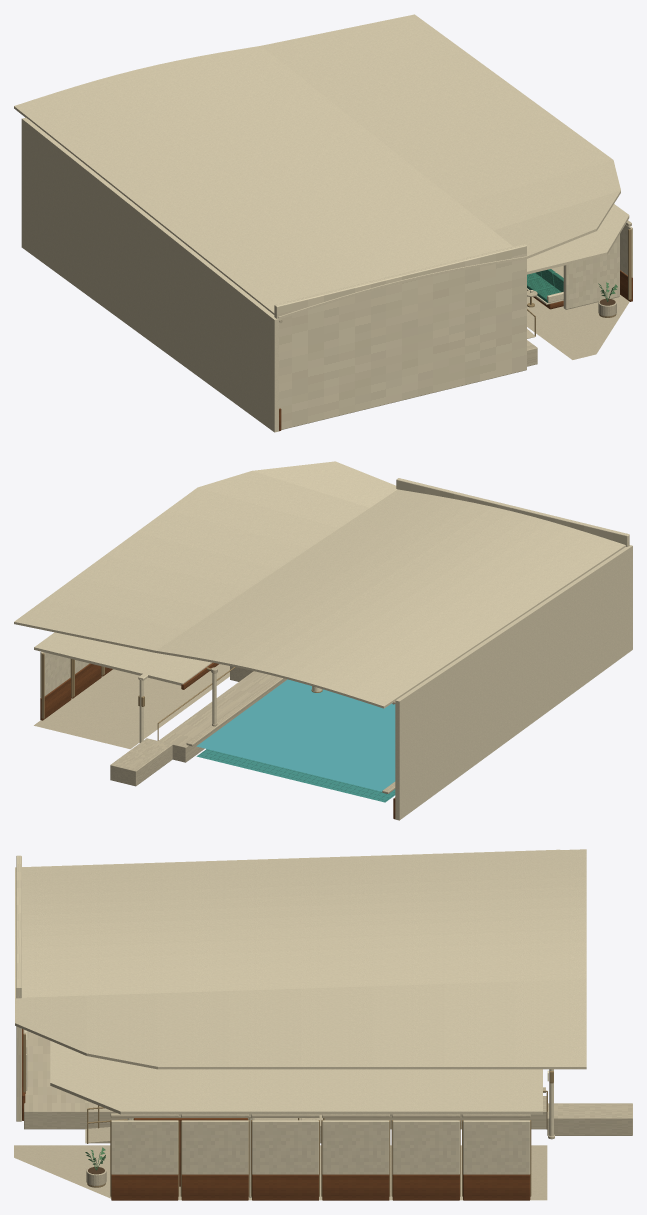
The model's file is FRESH_SELECTED_REEXPORT005.glb.
The picture shows the model from 3 angles, top to bottom: view 1: azimuth 30°, elevation 25°; view 2: azimuth 150°, elevation 25°; view 3: azimuth 270°, elevation 25°; orthographic projection. The views are drawn at different scales.
Visible parts, largest first — view 1: G6_TIDAL__north_room_return, G6_TIDAL__vault_infill_0, G6_TIDAL__vault_infill_2, G6_TIDAL__vault_infill_4, G6_TIDAL__vault_infill_3, G6_TIDAL__vault_infill_1, G6_TIDAL__vault_infill_5, G6_TIDAL__vault_infill_6, G6_TIDAL__west_room_return_0, G6_TIDAL__west_room_return_1, G6_TIDAL__west_room_return_3, G6_TIDAL__west_room_return_2 (+12 smaller); view 2: G6_TIDAL__water_face, G6_TIDAL__west_room_return_0, G6_TIDAL__dry_floor_finish, G6_TIDAL__vault_infill_0, G6_TIDAL__west_room_return_1, G6_TIDAL__west_room_return_2, G6_TIDAL__vault_infill_1, G6_TIDAL__vault_infill_2, G6_TIDAL__vault_infill_5, G6_TIDAL__vault_infill_6, G6_TIDAL__vault_infill_3, G6_TIDAL__vault_infill_4 (+19 smaller); view 3: G6_TIDAL__vault_infill_0, G6_TIDAL__vault_infill_6, G6_TIDAL__vault_infill_4, G6_TIDAL__vault_infill_3, G6_TIDAL__vault_infill_1, G6_TIDAL__vault_infill_2, G6_TIDAL__vault_infill_5, G6_TIDAL__vault_infill_7, G6_TIDAL__east_roof_infill_0, G6_TIDAL__east_roof_infill_1, G6_TIDAL__east_roof_infill_2, G6_TIDAL__east_roof_infill_3 (+29 smaller).
Boxes of the visible parts, x1,y1,x2,y2 form: G6_TIDAL__north_room_return: (274, 244, 526, 429); G6_TIDAL__vault_infill_0: (14, 46, 293, 133); G6_TIDAL__vault_infill_2: (80, 98, 359, 186); G6_TIDAL__vault_infill_4: (146, 151, 426, 239); G6_TIDAL__vault_infill_3: (113, 125, 392, 212); G6_TIDAL__vault_infill_1: (47, 72, 326, 160); G6_TIDAL__vault_infill_5: (179, 177, 459, 265); G6_TIDAL__vault_infill_6: (212, 204, 492, 292); G6_TIDAL__west_room_return_0: (21, 117, 88, 293); G6_TIDAL__west_room_return_1: (85, 168, 152, 339); G6_TIDAL__west_room_return_3: (211, 268, 278, 432); G6_TIDAL__west_room_return_2: (148, 218, 215, 385); G6_TIDAL__water_face: (196, 679, 395, 791); G6_TIDAL__west_room_return_0: (395, 661, 457, 820); G6_TIDAL__dry_floor_finish: (34, 664, 229, 749); G6_TIDAL__vault_infill_0: (156, 630, 414, 708); G6_TIDAL__west_room_return_1: (454, 622, 516, 777); G6_TIDAL__west_room_return_2: (512, 583, 574, 734); G6_TIDAL__vault_infill_1: (187, 610, 445, 687); G6_TIDAL__vault_infill_2: (217, 589, 475, 666); G6_TIDAL__vault_infill_5: (309, 528, 567, 605); G6_TIDAL__vault_infill_6: (340, 508, 598, 585); G6_TIDAL__vault_infill_3: (248, 569, 506, 646); G6_TIDAL__vault_infill_4: (279, 548, 536, 625); G6_TIDAL__vault_infill_0: (515, 849, 586, 981); G6_TIDAL__vault_infill_6: (86, 863, 157, 995); G6_TIDAL__vault_infill_4: (229, 858, 300, 990); G6_TIDAL__vault_infill_3: (301, 856, 372, 988); G6_TIDAL__vault_infill_1: (444, 851, 515, 983); G6_TIDAL__vault_infill_2: (372, 854, 443, 986); G6_TIDAL__vault_infill_5: (158, 861, 229, 993); G6_TIDAL__vault_infill_7: (15, 865, 86, 997); G6_TIDAL__east_roof_infill_0: (515, 979, 586, 1069); G6_TIDAL__east_roof_infill_1: (444, 981, 515, 1069); G6_TIDAL__east_roof_infill_2: (372, 984, 443, 1069); G6_TIDAL__east_roof_infill_3: (301, 986, 372, 1069).
Bounding box in the file's own units: 22.95 × 7.46 × 28.15.
Materials: 10 (5 with a texture image).
